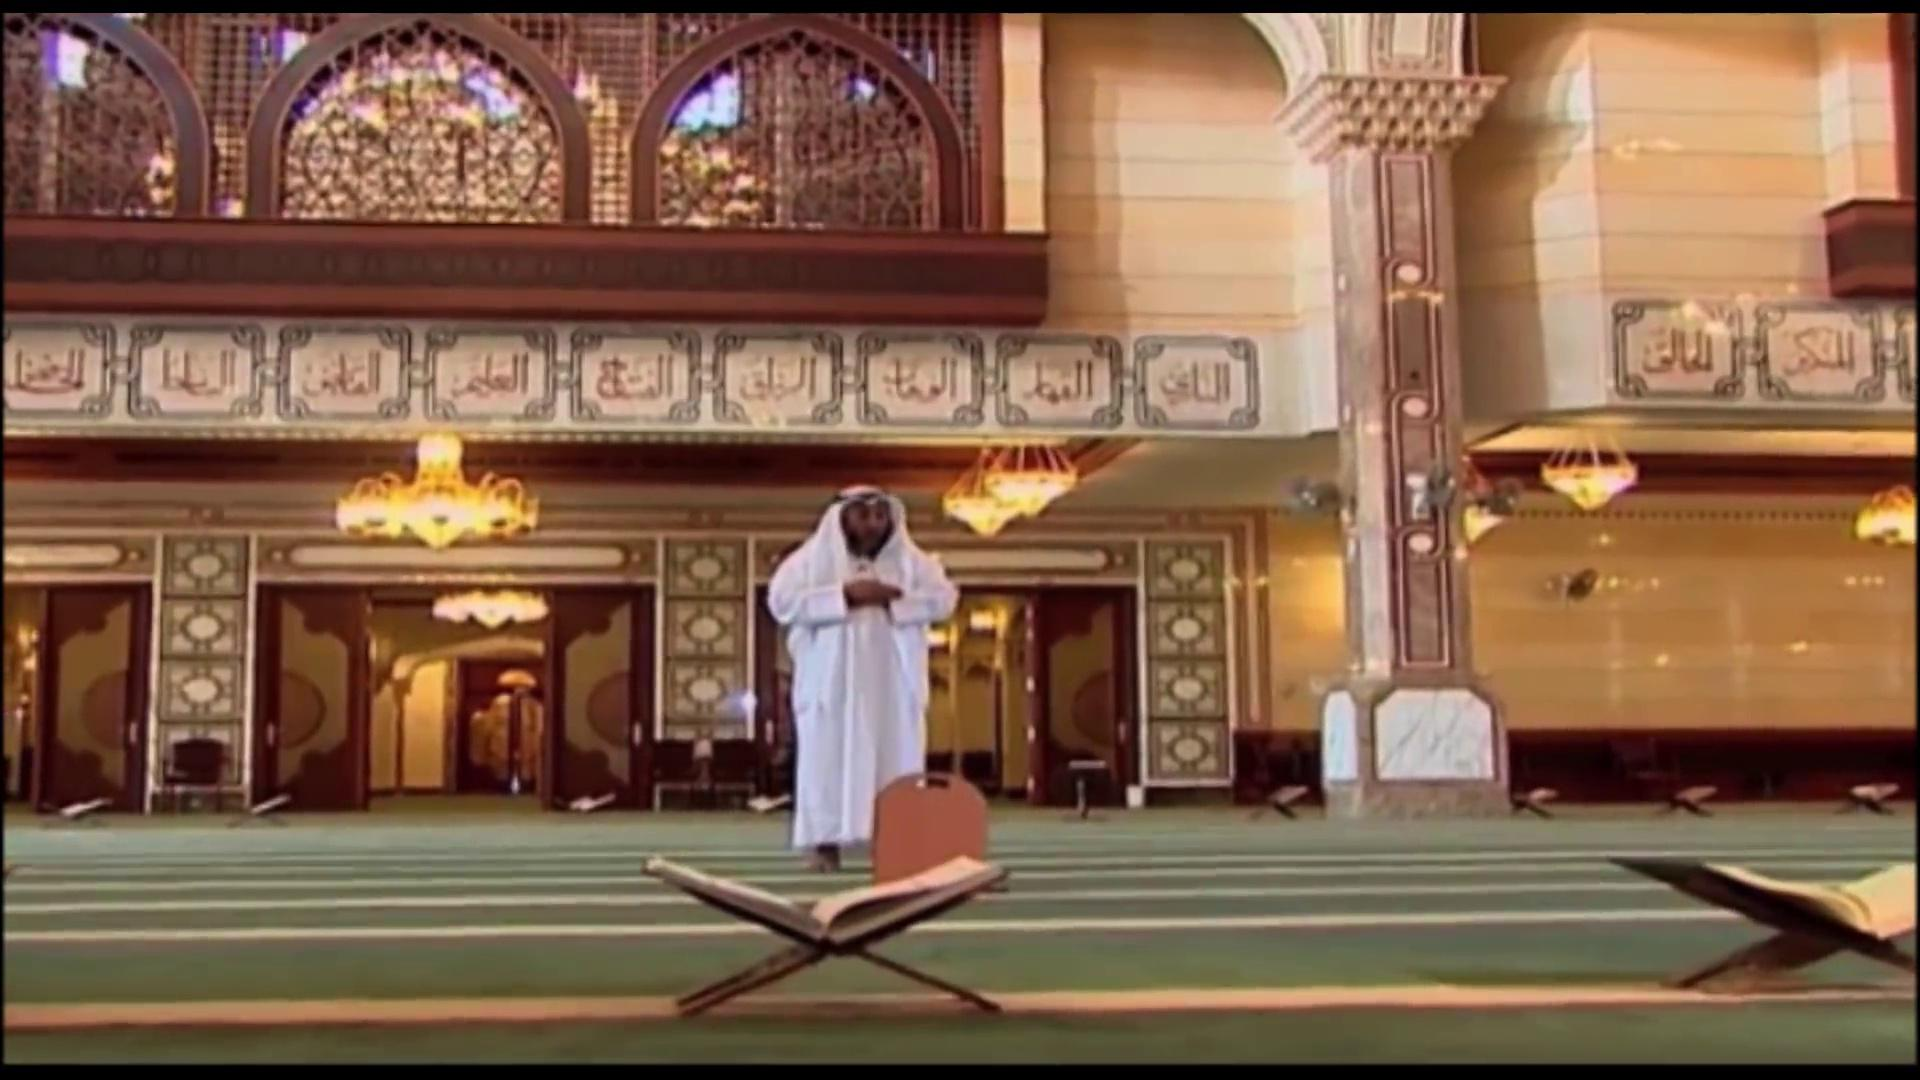qiyam: (765, 483, 961, 870)
